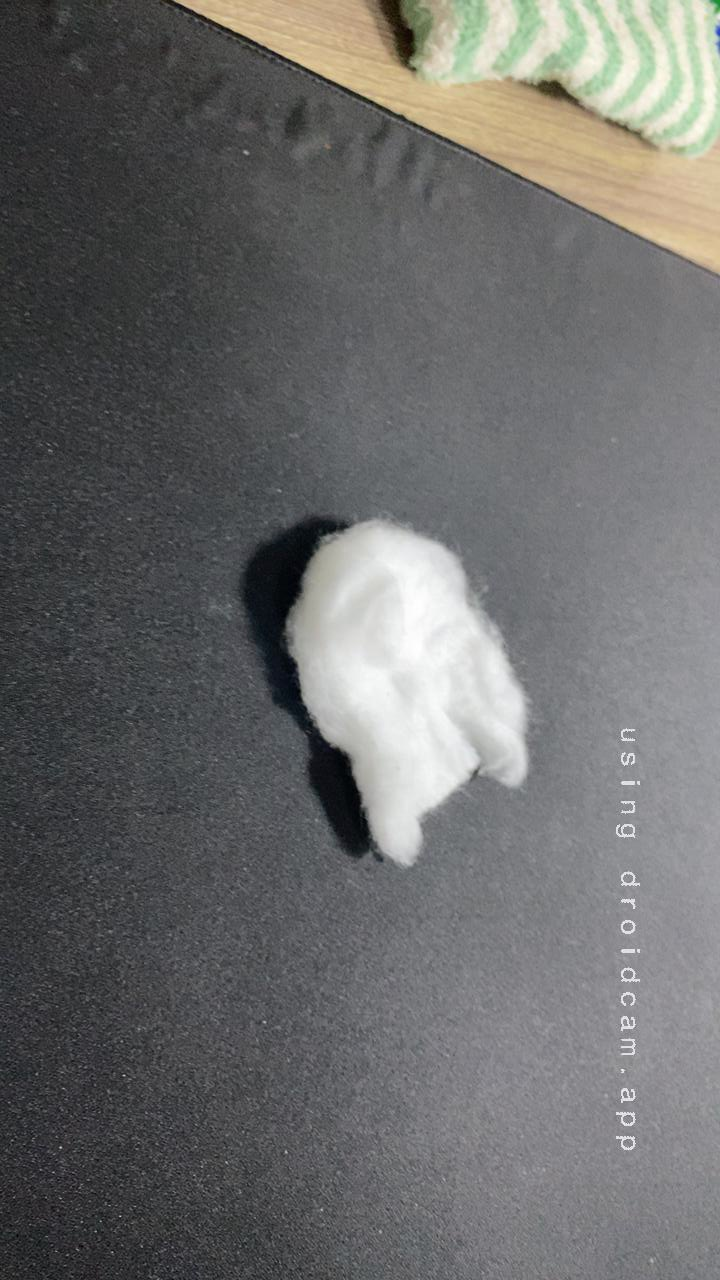cotton: (234, 495, 557, 879)
